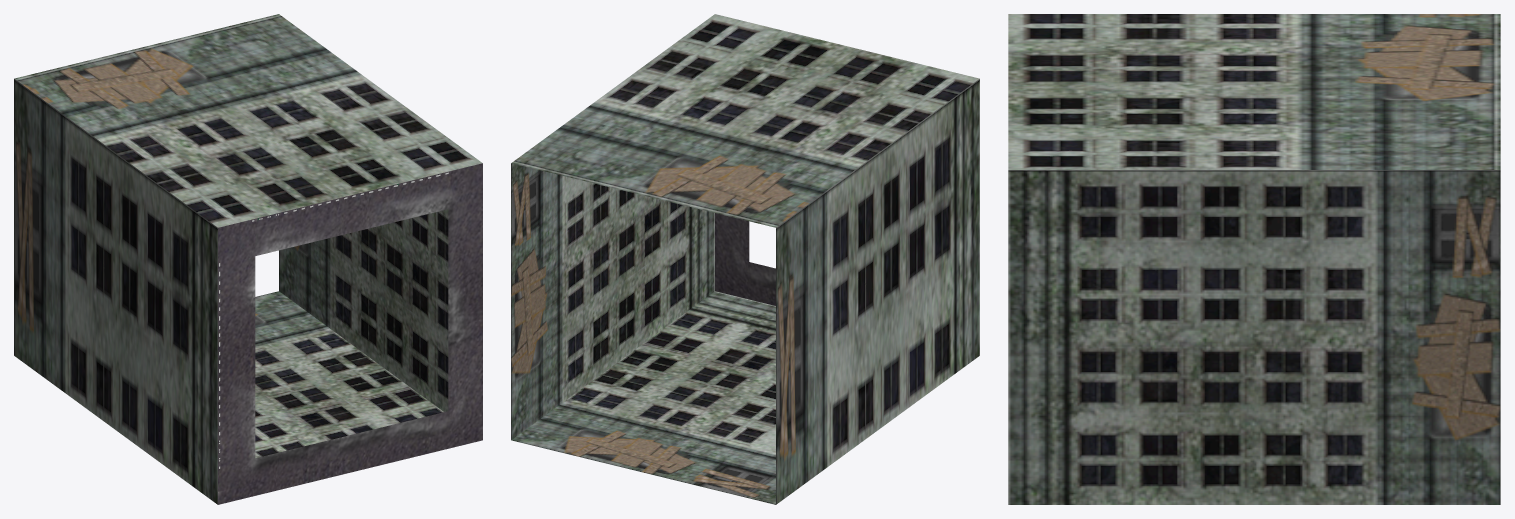
Rendered from building6x8x6a_wtf.obj.
3 views of the same model, side by side, from view 1: azimuth 30°, elevation 25°; view 2: azimuth 150°, elevation 25°; view 3: azimuth 270°, elevation 25° (orthographic). The views are drawn at different scales.
Parts seen in each view (by area): view 1: group3, group4; view 2: group3, group4; view 3: group3.
Boxes of the visible parts, x1,y1,x2,y2 form: group3: (14,14,482,504); group4: (218,163,482,504); group3: (511,14,979,504); group4: (715,213,775,305); group3: (1008,14,1500,504).
Size of the model in its own units: 495 by 495 by 660.
